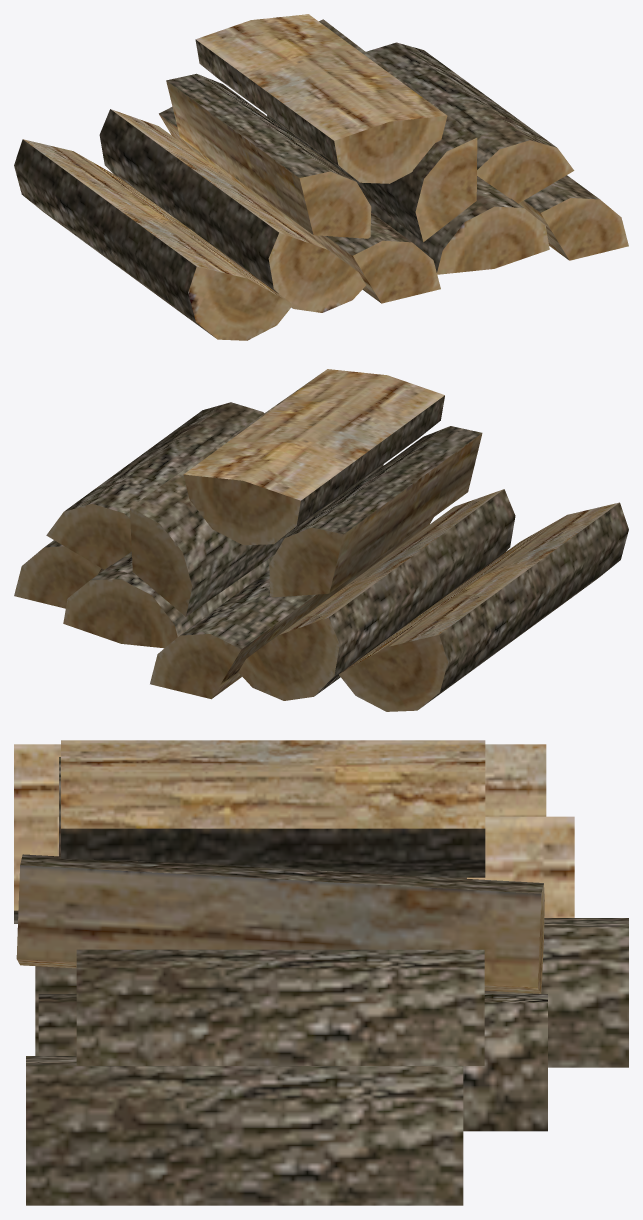
Rendered from Prop_Firewood1.glb.
3 views of the same model, one above another, from view 1: azimuth 30°, elevation 25°; view 2: azimuth 150°, elevation 25°; view 3: azimuth 270°, elevation 25° (orthographic). The views are drawn at different scales.
Visible parts, largest first — view 1: xiutz_firewood1; view 2: xiutz_firewood1; view 3: xiutz_firewood1.
Boxes of the visible parts, bbox=[...] form: xiutz_firewood1: bbox=[14, 14, 628, 340]; xiutz_firewood1: bbox=[14, 369, 628, 711]; xiutz_firewood1: bbox=[14, 740, 628, 1205].
Size of the model in its own units: 1.46 by 0.5464 by 1.15.
Materials: 1 (1 with a texture image).
